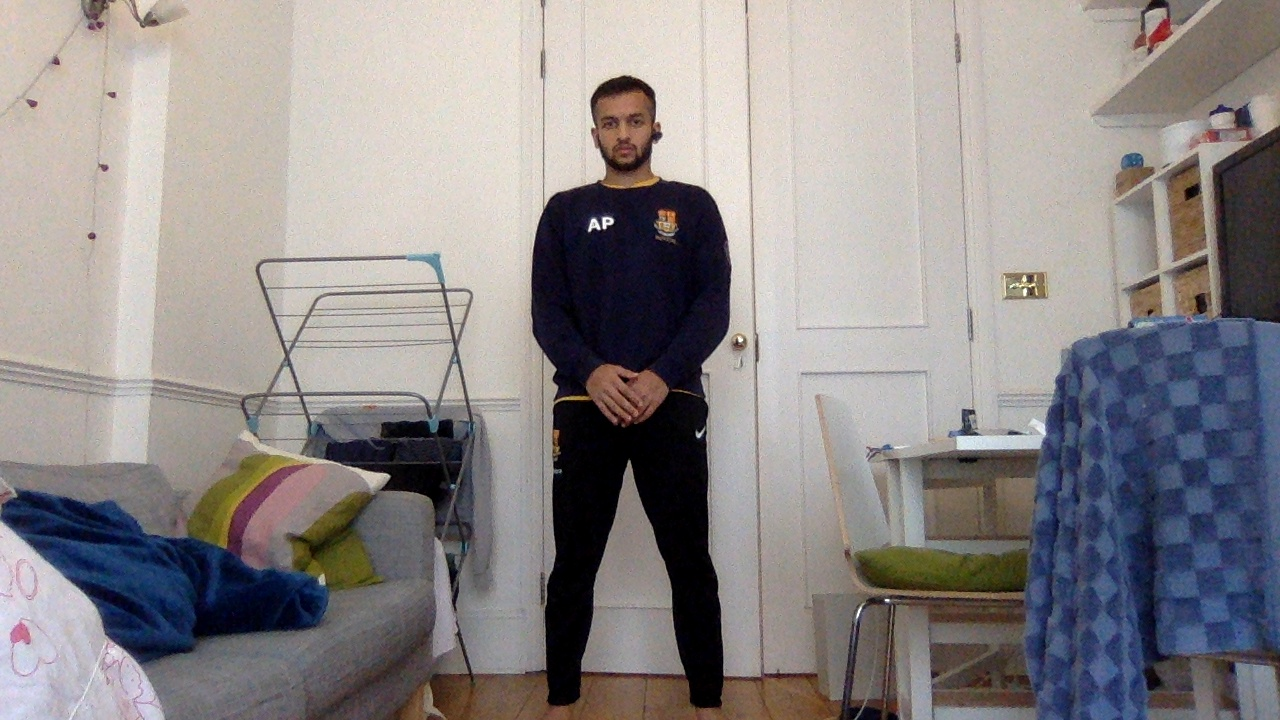hand: (583, 362, 642, 430), (615, 365, 669, 433)
